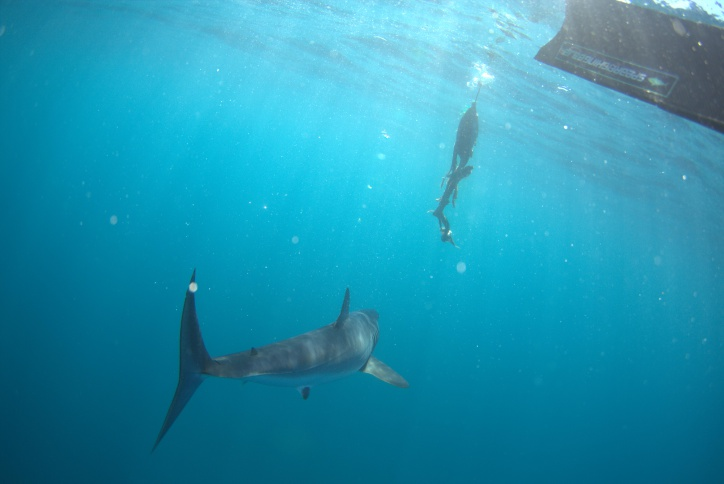Mako: (127, 260, 432, 463)
